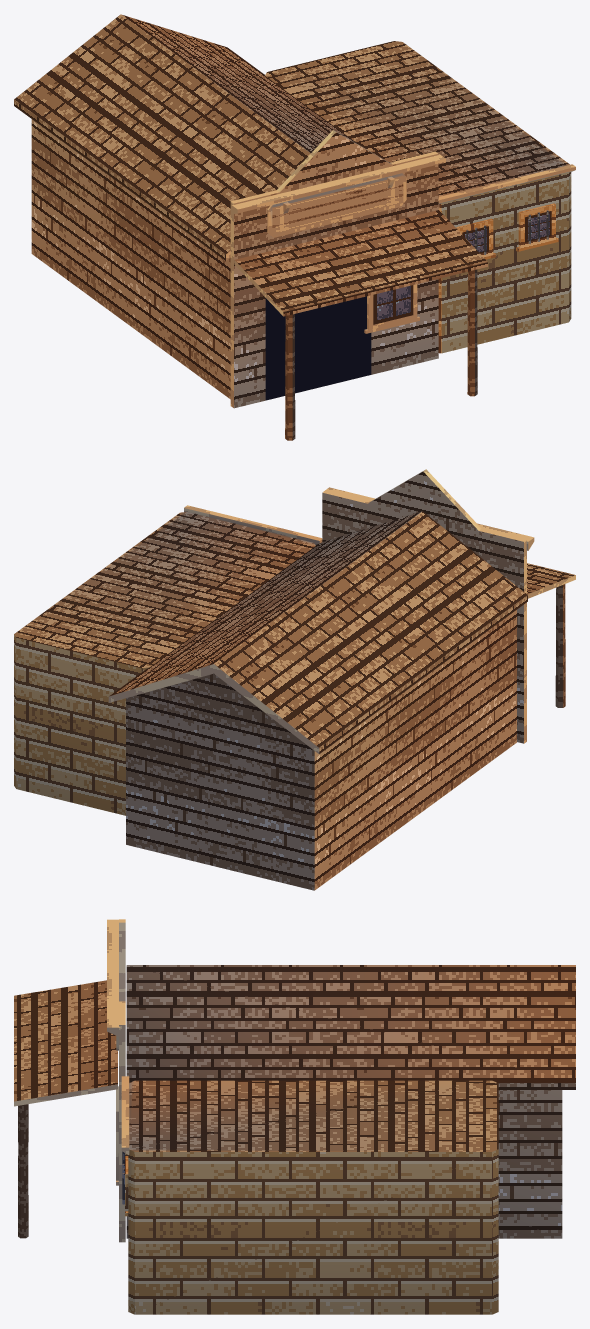
Rendered from wtown.sheriff__entry.glb.
The picture shows the model from 3 angles, top to bottom: view 1: azimuth 30°, elevation 25°; view 2: azimuth 150°, elevation 25°; view 3: azimuth 270°, elevation 25°; orthographic projection. The views are drawn at different scales.
Parts seen in each view (by area): view 1: kit_roof, kit_jail, kit_body, kit_porch, kit_front, kit_card_panes, kit_trim, kit_windows; view 2: kit_body, kit_roof, kit_jail, kit_front, kit_porch, kit_trim; view 3: kit_jail, kit_roof, kit_porch, kit_body, kit_front, kit_trim, kit_windows.
Part boxes in pixels (x1,y1,x2,y2): kit_roof: (14,14,439,260); kit_jail: (265,41,575,353); kit_body: (31,119,230,399); kit_porch: (234,210,487,440); kit_front: (230,130,438,408); kit_card_panes: (265,176,551,400); kit_trim: (231,154,445,237); kit_windows: (364,203,558,333); kit_body: (126,610,516,890); kit_roof: (108,511,527,753); kit_jail: (14,505,322,815); kit_front: (322,469,526,743); kit_porch: (527,563,575,707); kit_trim: (323,487,534,550); kit_jail: (121,1076,498,1314); kit_roof: (126,965,575,1089); kit_porch: (14,980,117,1238); kit_body: (126,1090,562,1238); kit_front: (119,919,125,1242); kit_trim: (107,919,120,1050); kit_windows: (116,1086,128,1216).
Size of the model in its own units: 7.85 by 5.4 by 10.32.
Materials: 9 (9 with a texture image).
